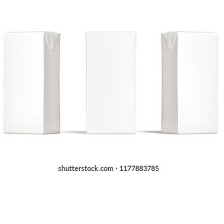carton: (0, 29, 63, 136), (158, 29, 220, 134), (82, 28, 138, 137)
